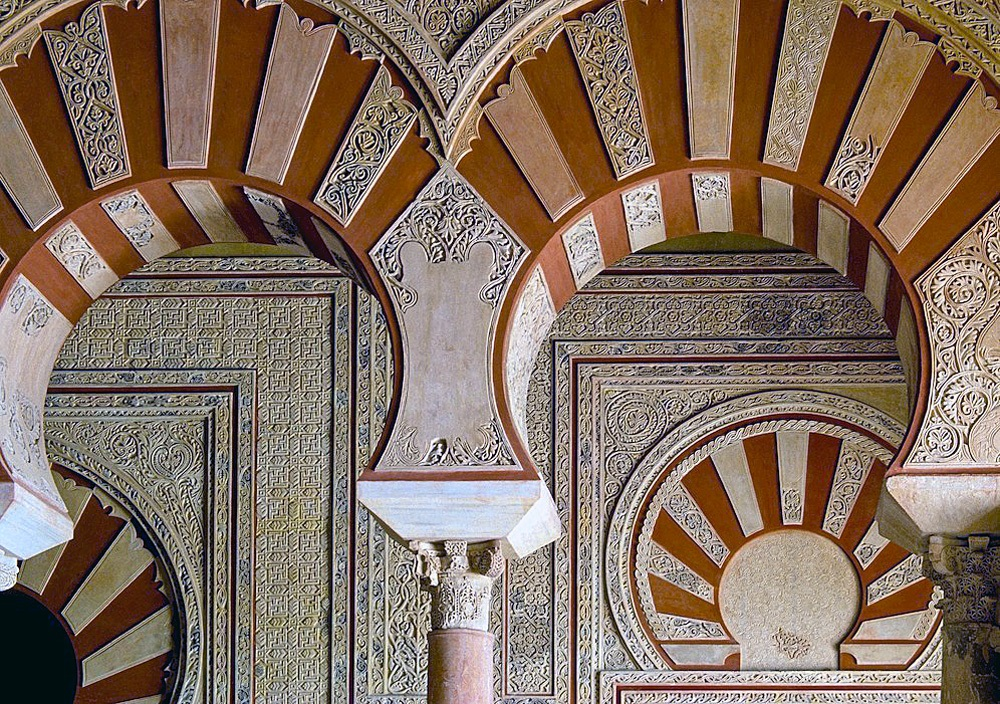arco-herradura: (466, 131, 999, 597), (1, 146, 463, 604)
